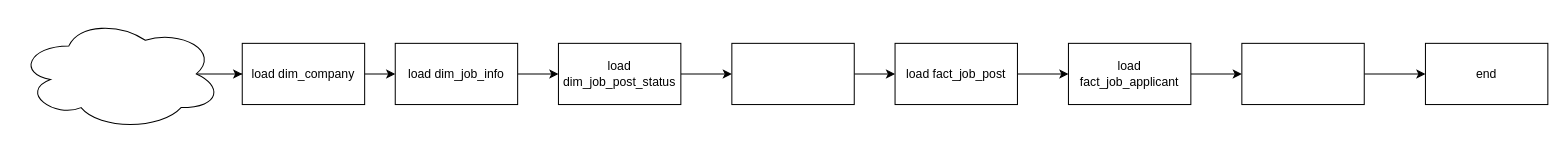
Some shapes in this 1566 by 148 pixel diagram are drawn without their labels. Each missing label, with the centre of its shape:
"load dim_applicant" goes at point 792,73.
"RAW DATA (DataLake)" goes at point 119,73.
"write control table" goes at point 1302,73.
